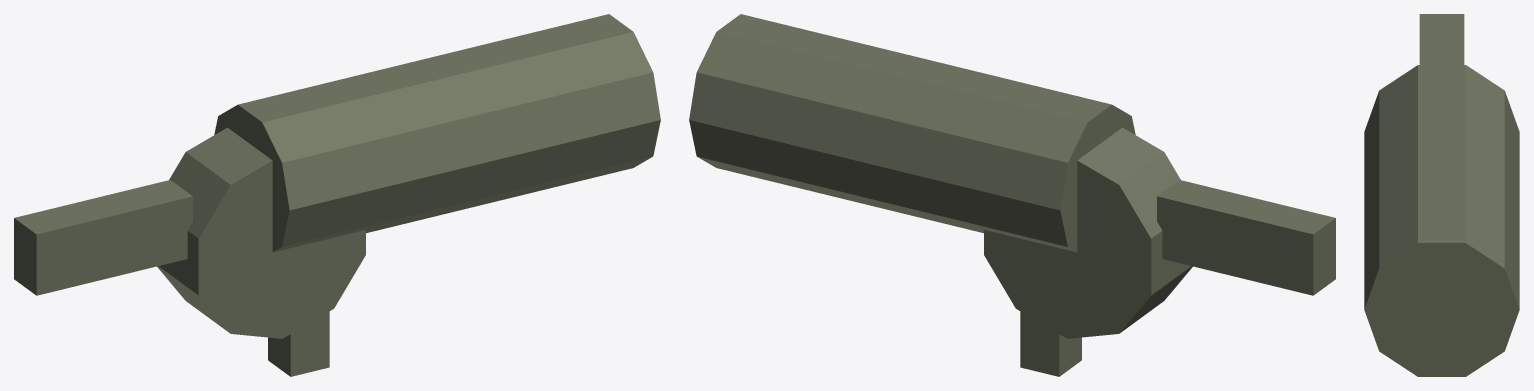
File: gun_launcher.glb
3 views of the same model, side by side, from view 1: azimuth 30°, elevation 25°; view 2: azimuth 150°, elevation 25°; view 3: azimuth 270°, elevation 25° (orthographic).
Parts seen in each view (by area): view 1: Gun; view 2: Gun; view 3: Gun.
Boxes of the visible parts, bbox=[...] form: Gun: bbox=[14, 14, 660, 376]; Gun: bbox=[689, 14, 1335, 376]; Gun: bbox=[1364, 14, 1519, 376].
Bounding box in the file's own units: 0.61 × 0.2566 × 0.14.
